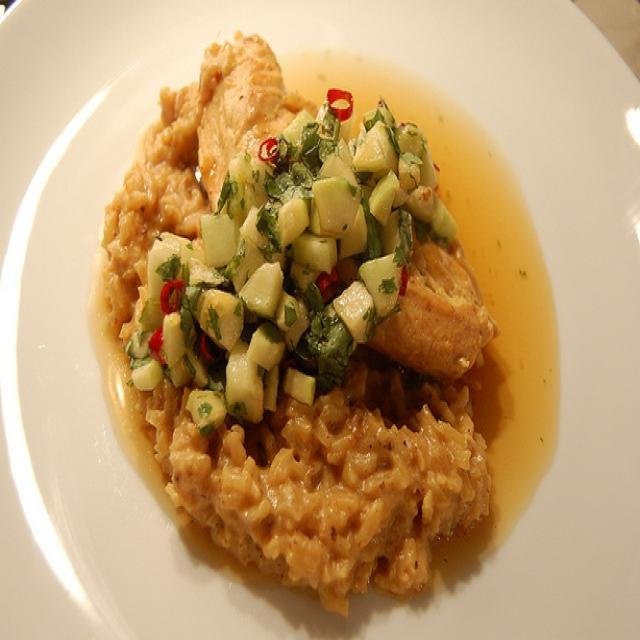米饭主食: (22, 20, 612, 629)
